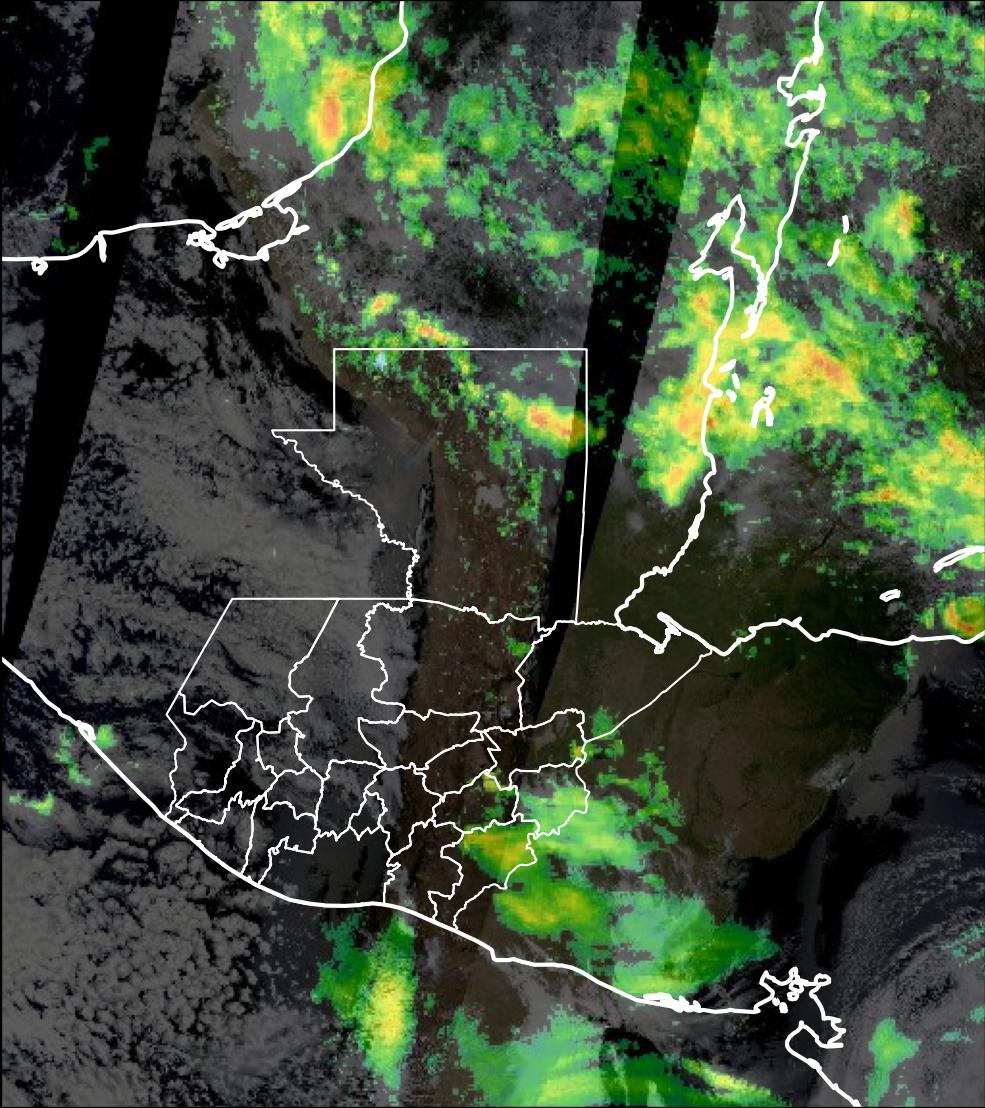precipitacion: (793, 339, 857, 414), (303, 79, 356, 146)
